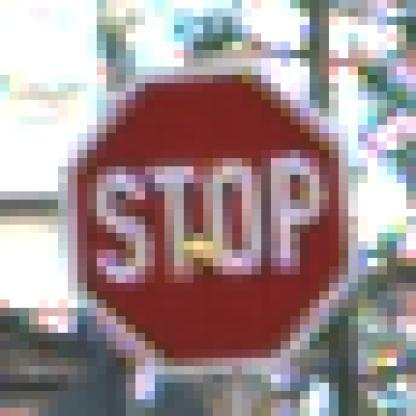Stop: (68, 74, 352, 370)
